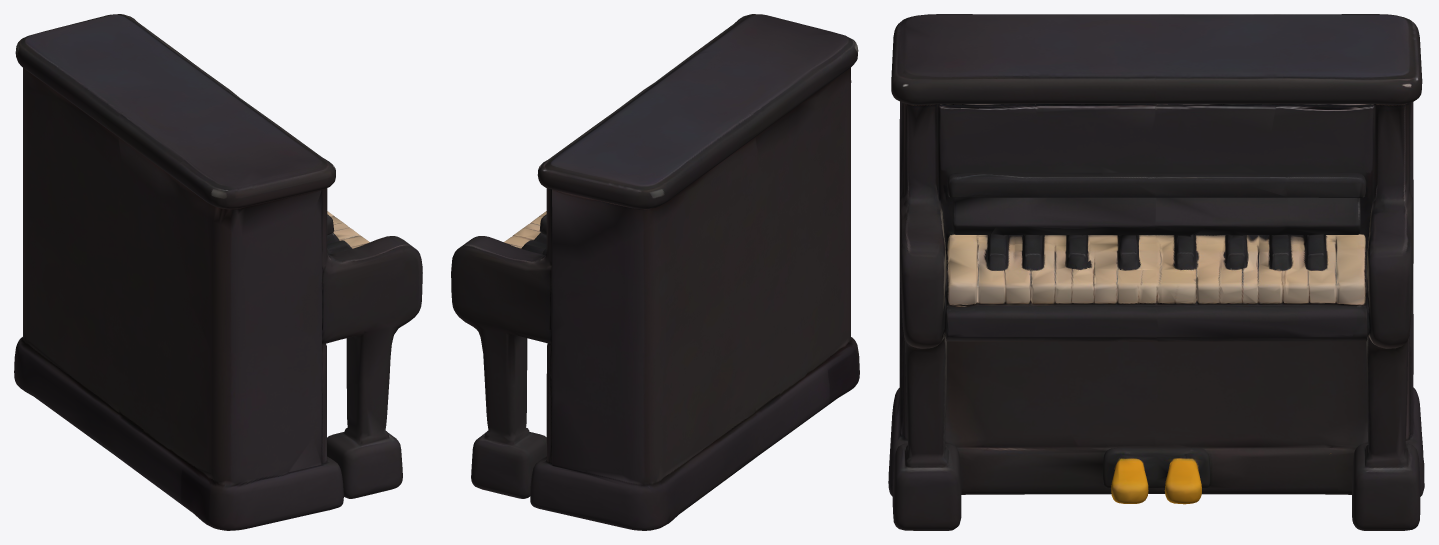
File: piano.glb
3 renders of one model, left to right at view 1: azimuth 30°, elevation 25°; view 2: azimuth 150°, elevation 25°; view 3: azimuth 270°, elevation 25°, orthographic. The views are drawn at different scales.
Parts seen in each view (by area): view 1: tripo_node_9b4a71b9-607e-4dd4-858a-19fd47be47ab; view 2: tripo_node_9b4a71b9-607e-4dd4-858a-19fd47be47ab; view 3: tripo_node_9b4a71b9-607e-4dd4-858a-19fd47be47ab.
Boxes of the visible parts, bbox=[...] form: tripo_node_9b4a71b9-607e-4dd4-858a-19fd47be47ab: bbox=[14, 14, 422, 530]; tripo_node_9b4a71b9-607e-4dd4-858a-19fd47be47ab: bbox=[451, 14, 859, 530]; tripo_node_9b4a71b9-607e-4dd4-858a-19fd47be47ab: bbox=[888, 14, 1424, 530].
Bounding box in the file's own units: 0.5526 × 0.8644 × 0.9994.
1 material, 1 textured.
